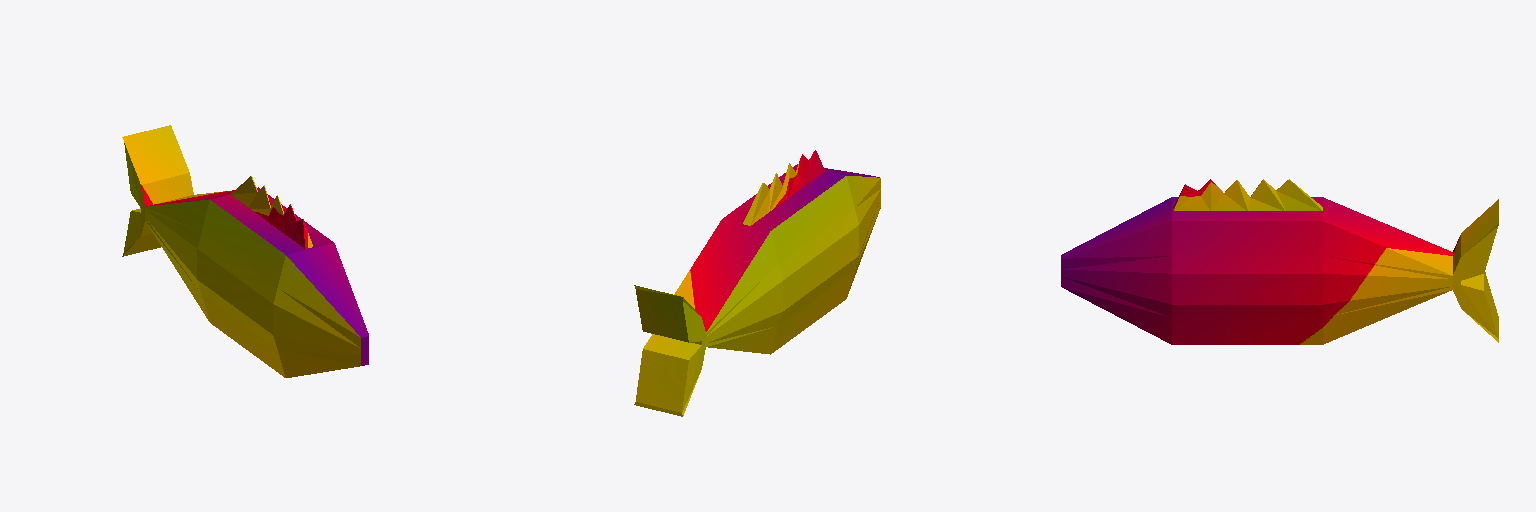
3 renders of one model, left to right at view 1: azimuth 30°, elevation 25°; view 2: azimuth 150°, elevation 25°; view 3: azimuth 270°, elevation 25°, orthographic.
Visible parts, largest first — view 1: 立方体, 立方体.001; view 2: 立方体, 立方体.001; view 3: 立方体, 立方体.001.
Boxes of the visible parts, x1,y1,x2,y2 form: 立方体: [122, 125, 368, 377]; 立方体.001: [230, 176, 312, 248]; 立方体: [634, 164, 880, 416]; 立方体.001: [743, 150, 824, 225]; 立方体: [1061, 197, 1498, 344]; 立方体.001: [1173, 179, 1322, 210].
Bounding box in the file's own units: 1.25 × 2.49 × 6.42.
Materials: 2 (1 with a texture image).